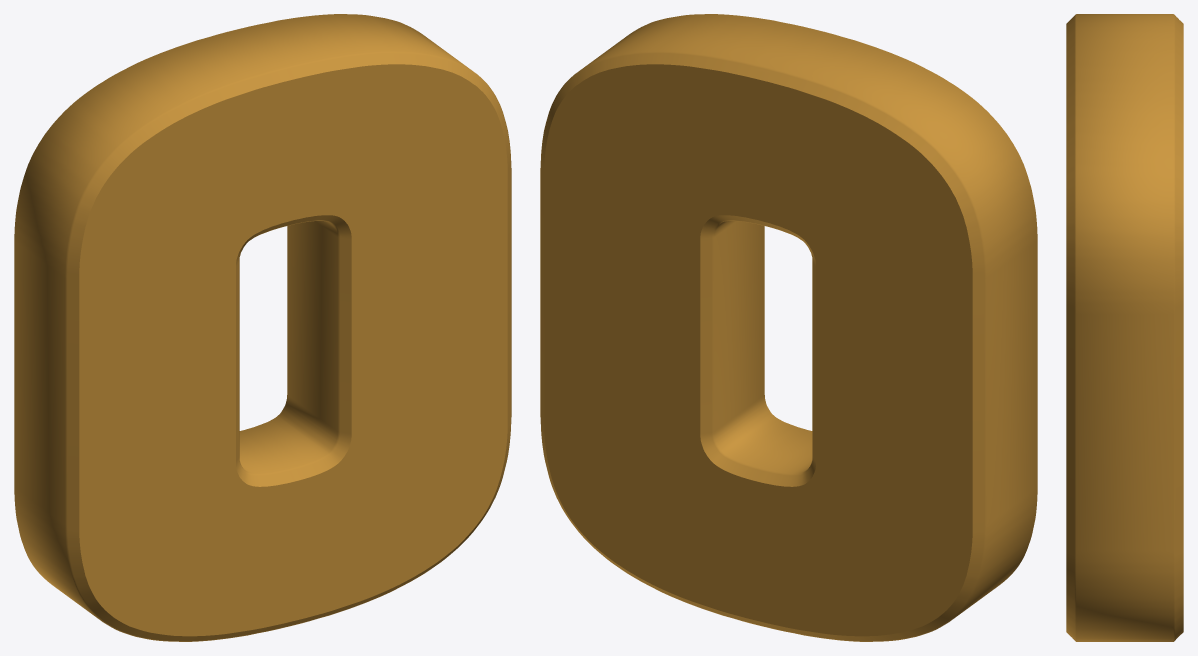
File: bungee-letterO-draco.glb
3 renders of one model, left to right at view 1: azimuth 30°, elevation 25°; view 2: azimuth 150°, elevation 25°; view 3: azimuth 270°, elevation 25°, orthographic. The views are drawn at different scales.
Visible parts, largest first — view 1: Text; view 2: Text; view 3: Text.
Boxes of the visible parts, left/top/right/bottom form: Text: left=14, top=14, right=511, bottom=641; Text: left=540, top=14, right=1037, bottom=641; Text: left=1066, top=14, right=1183, bottom=641.
Size of the model in its own units: 2.53 by 3.04 by 0.5998.
